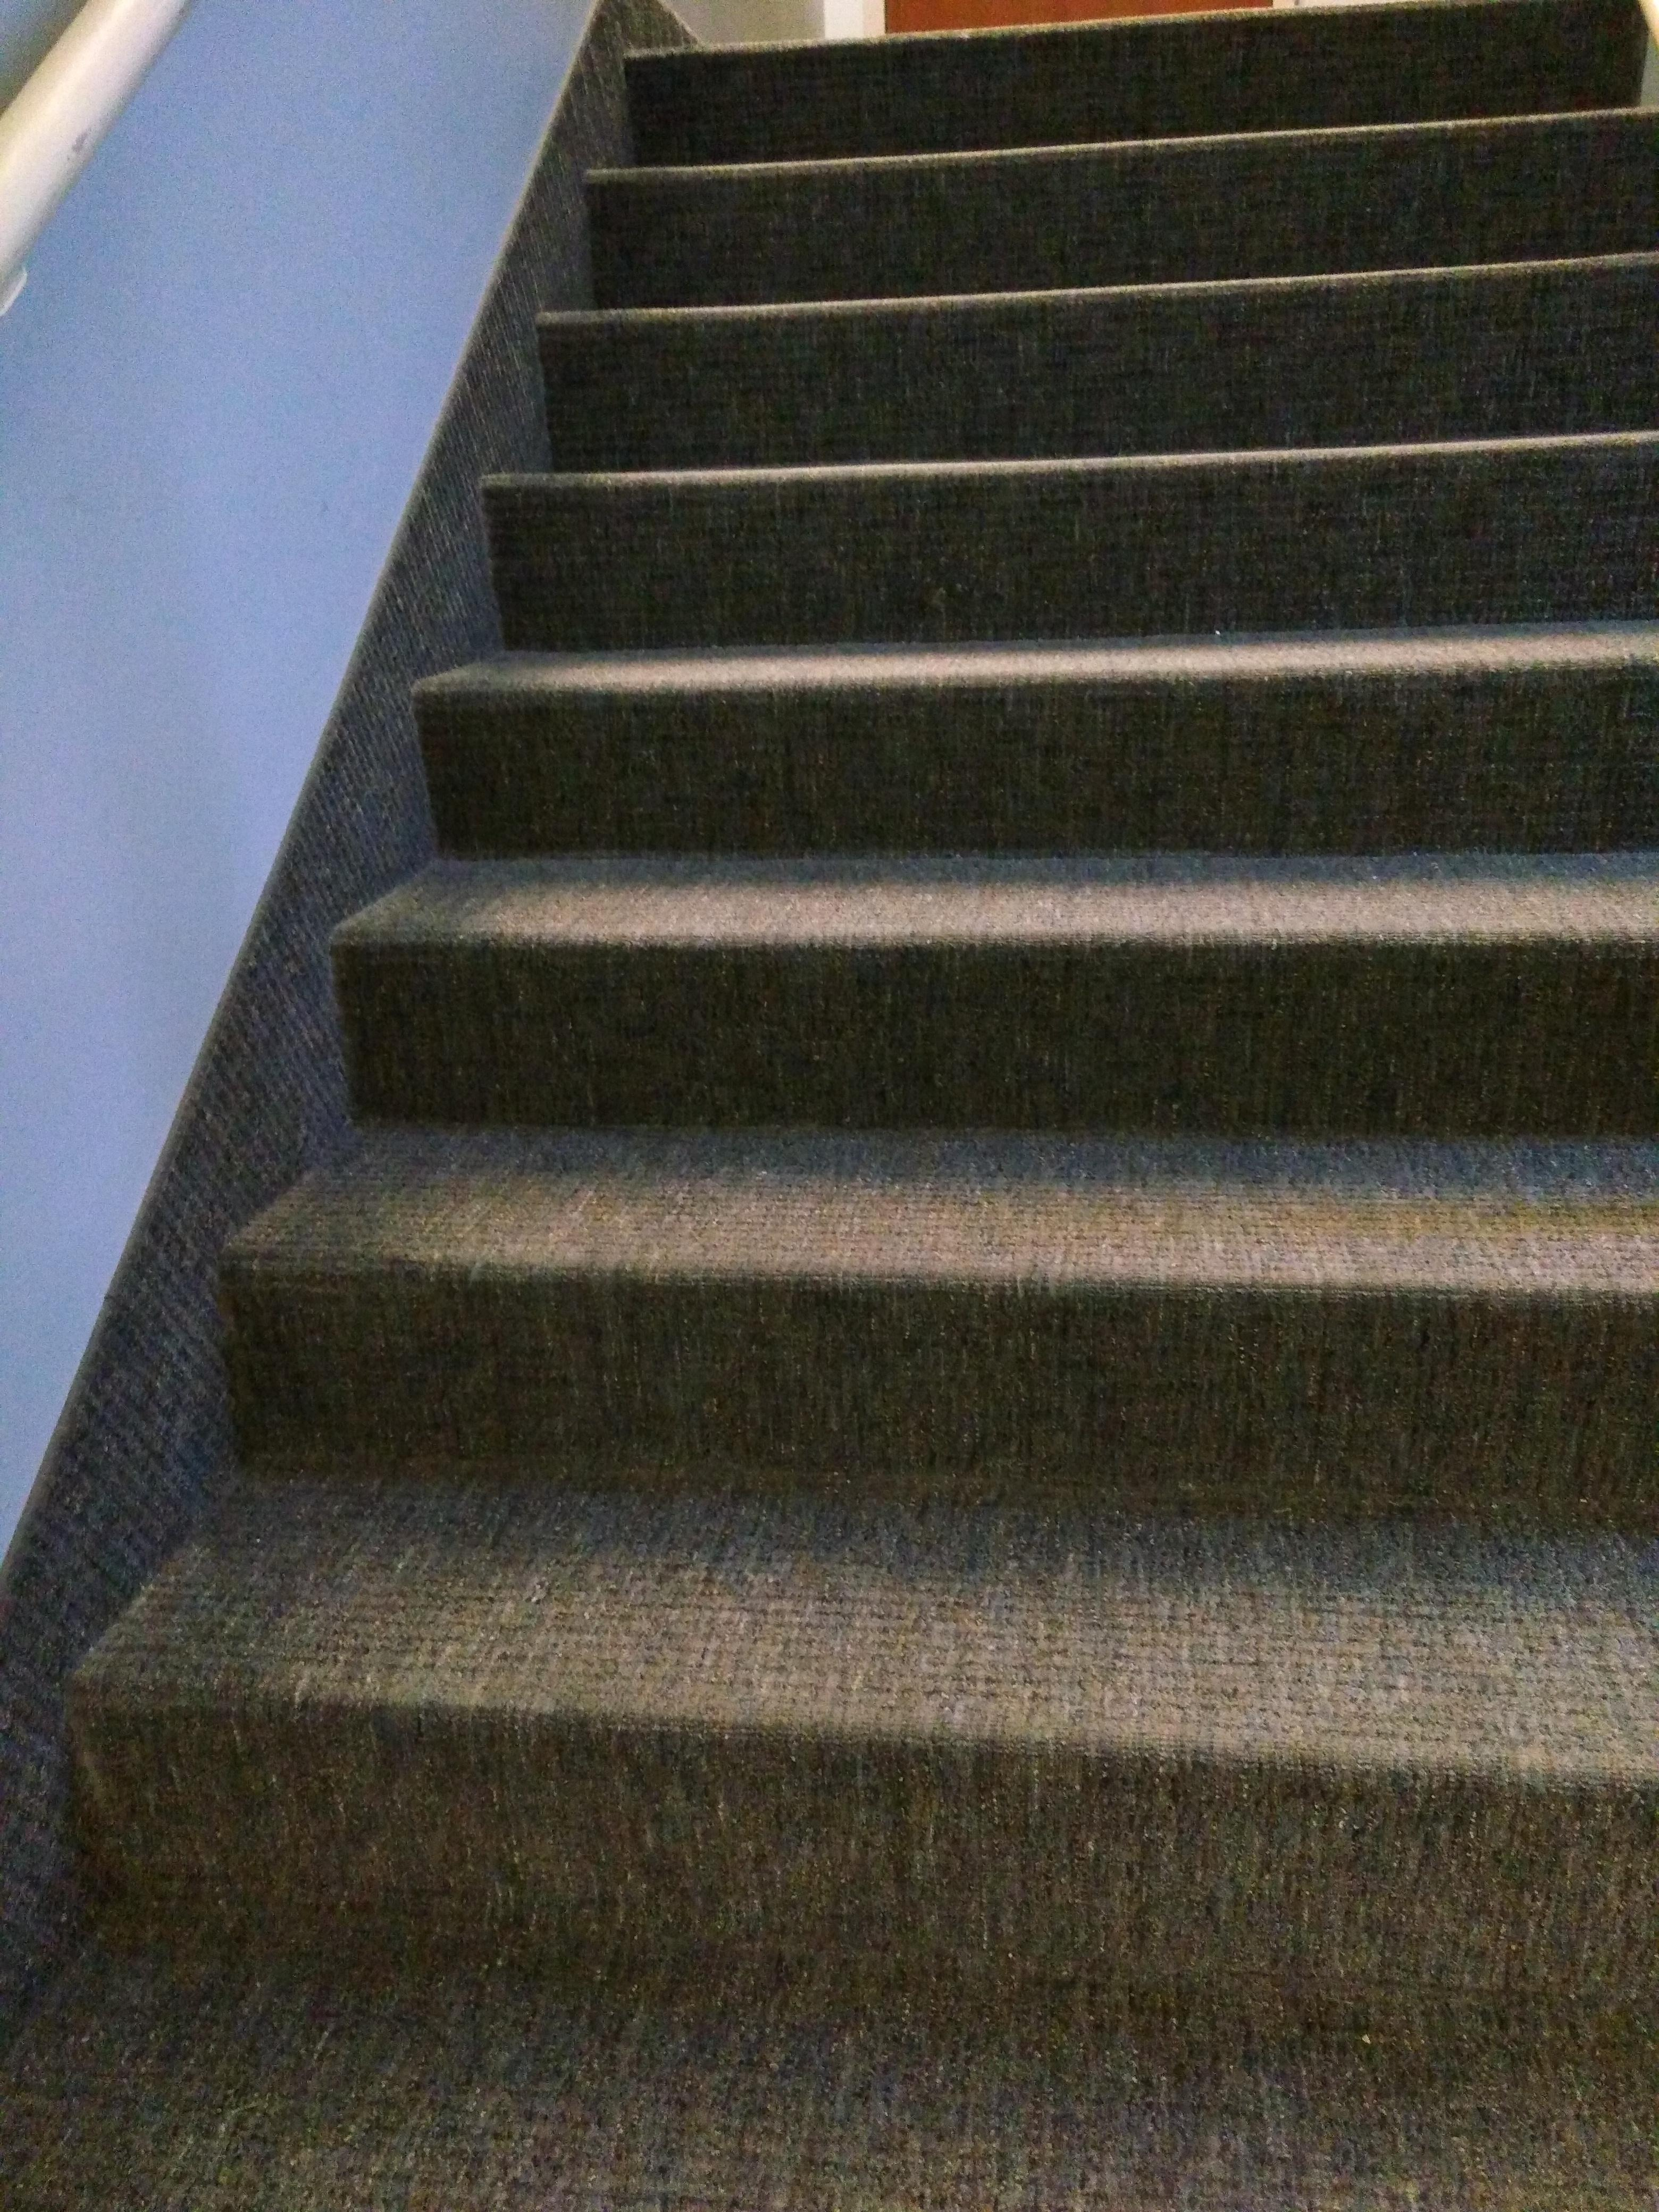stairs_up: (87, 35, 1659, 2003)
